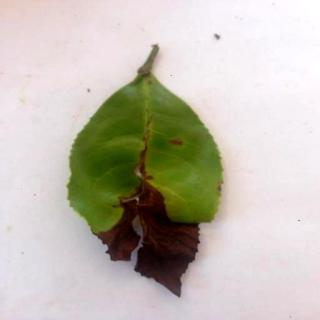Brown Blight: (67, 45, 224, 298)
